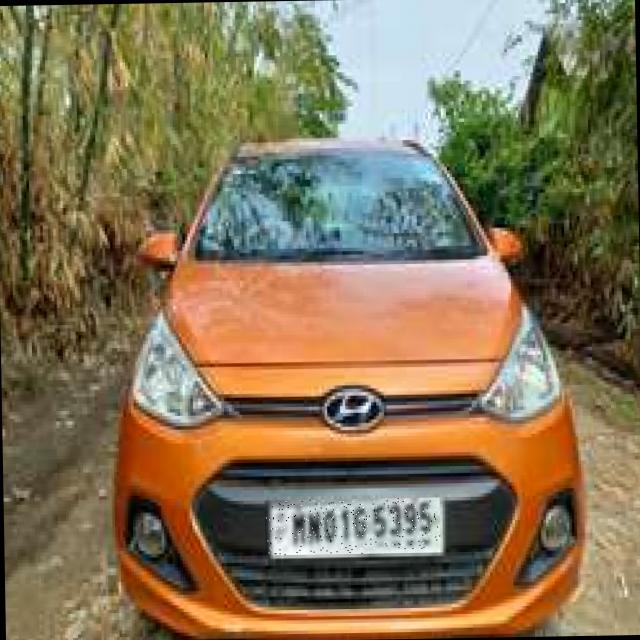Plate: (265, 498, 441, 556)
